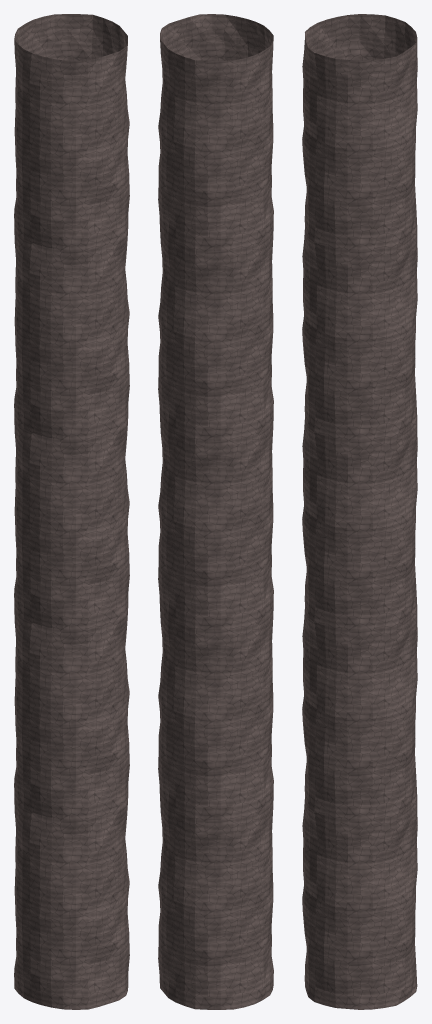
File: Circle2Walls.obj
The picture shows the model from 3 angles, left to right: view 1: azimuth 30°, elevation 25°; view 2: azimuth 210°, elevation 25°; view 3: azimuth 270°, elevation 25°; orthographic projection.
Parts seen in each view (by area): view 1: Circle2Walls; view 2: Circle2Walls; view 3: Circle2Walls.
Part boxes in pixels (x1=…): Circle2Walls: x1=14, y1=14, x2=129, y2=1009; Circle2Walls: x1=158, y1=14, x2=273, y2=1009; Circle2Walls: x1=302, y1=14, x2=417, y2=1009.
Bounding box in the file's own units: 35.72 × 325 × 35.9.
1 material, 1 textured.
